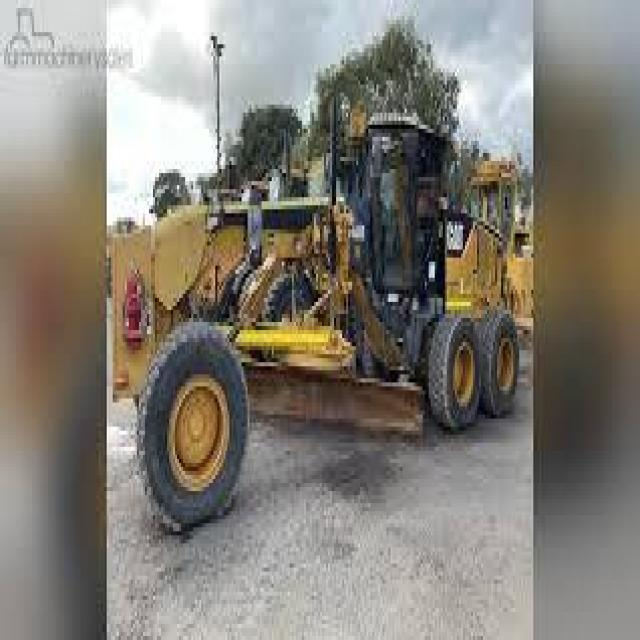Grader: (113, 76, 533, 564)
